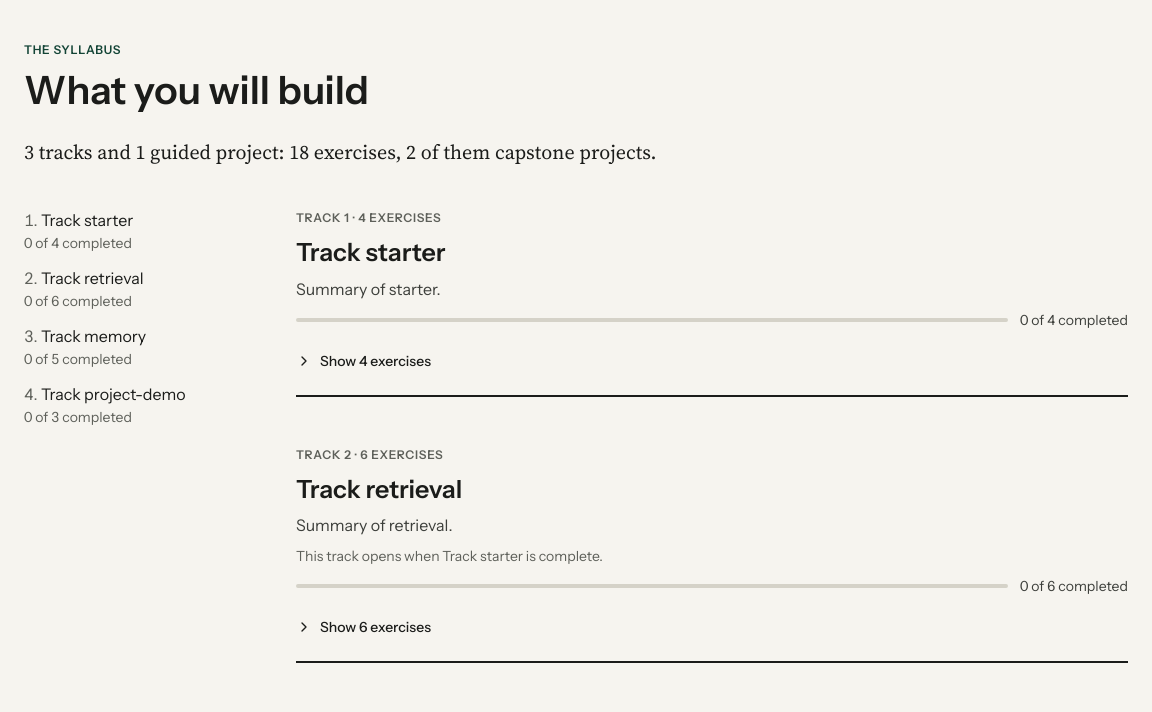
Test case: the landing page › starts every track folded: summary, count, Pro mark and a control to show it
(page scrolled)
Expected: the heading "Track starter" is shown, [296,238,446,268]
Expected: the link "Title of starter.e0" is not shown
Click the button named "Show 4 exercises in Track starter" at (364, 361), box [292,339,435,383]
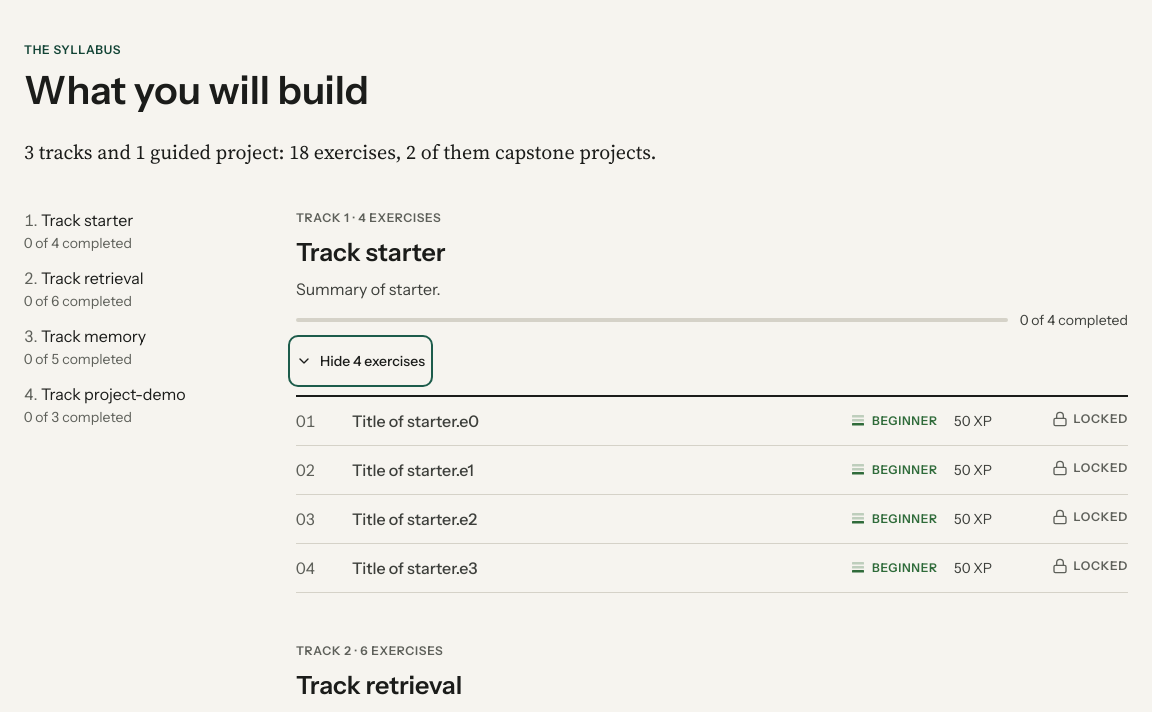
Expected: the link "01 Title of starter.e0 Beginner 50 XP Locked" is shown, [296,411,1128,431]
